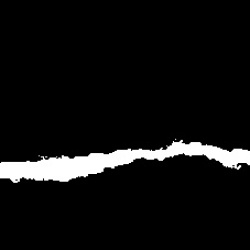crack: (1, 140, 248, 181)
